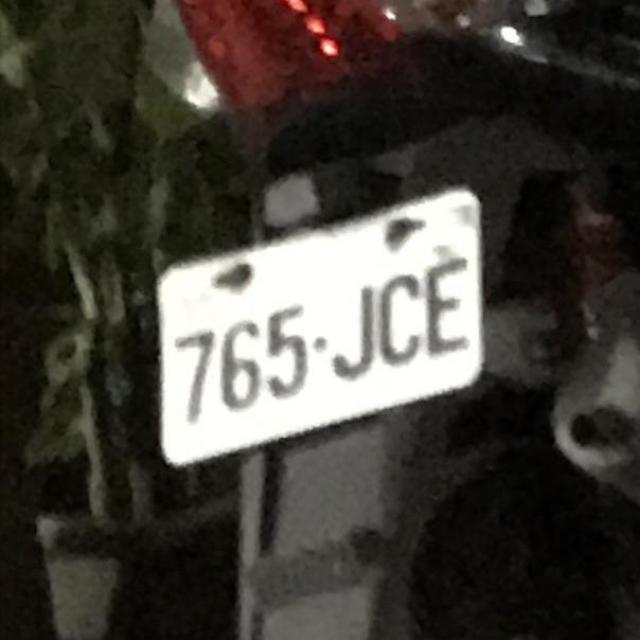W: (135, 140, 515, 486)
